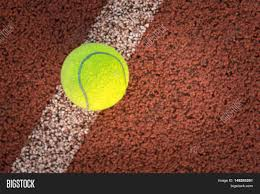tennis_ball: (61, 43, 130, 112)
